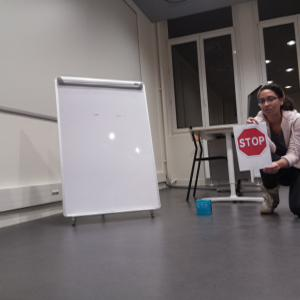big: (54, 75, 162, 217)
small: (196, 199, 212, 215)
